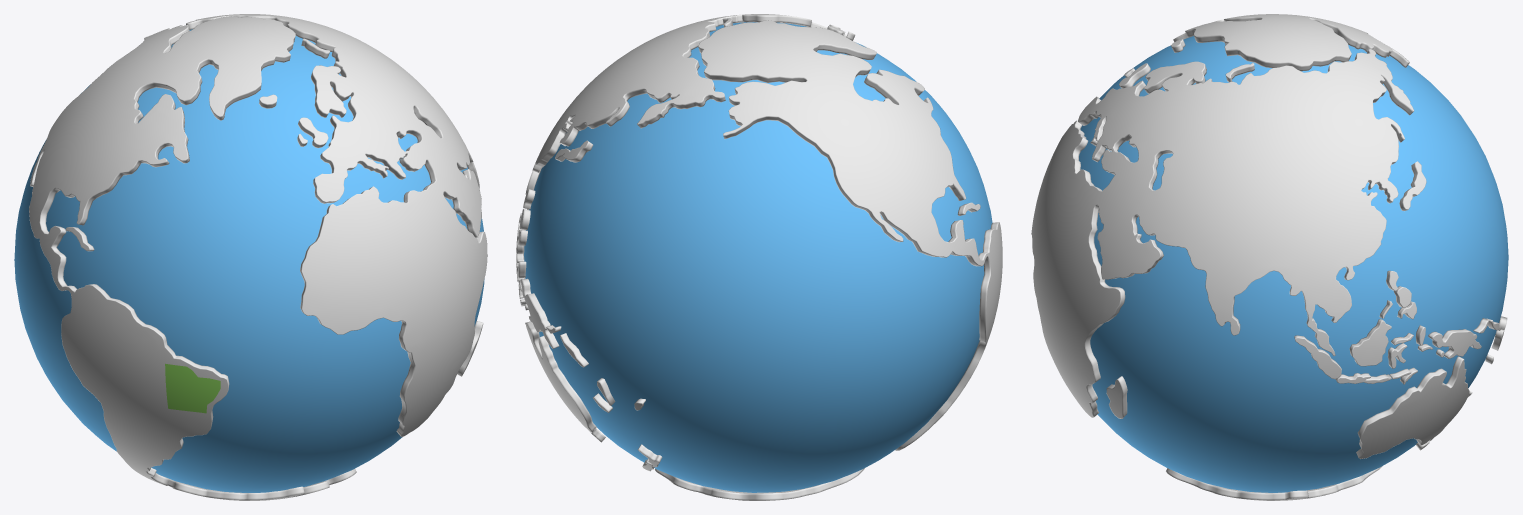
File: cartoon_earth.fbx
The picture shows the model from 3 angles, left to right: view 1: azimuth 30°, elevation 25°; view 2: azimuth 150°, elevation 25°; view 3: azimuth 270°, elevation 25°; orthographic projection.
Parts seen in each view (by area): view 1: cartoon_earth; view 2: cartoon_earth; view 3: cartoon_earth.
Boxes of the visible parts, x1,y1,x2,y2 form: cartoon_earth: (14, 14, 487, 500); cartoon_earth: (516, 14, 1002, 500); cartoon_earth: (1031, 14, 1508, 500).
Size of the model in its own units: 1013 by 1026 by 1004.
